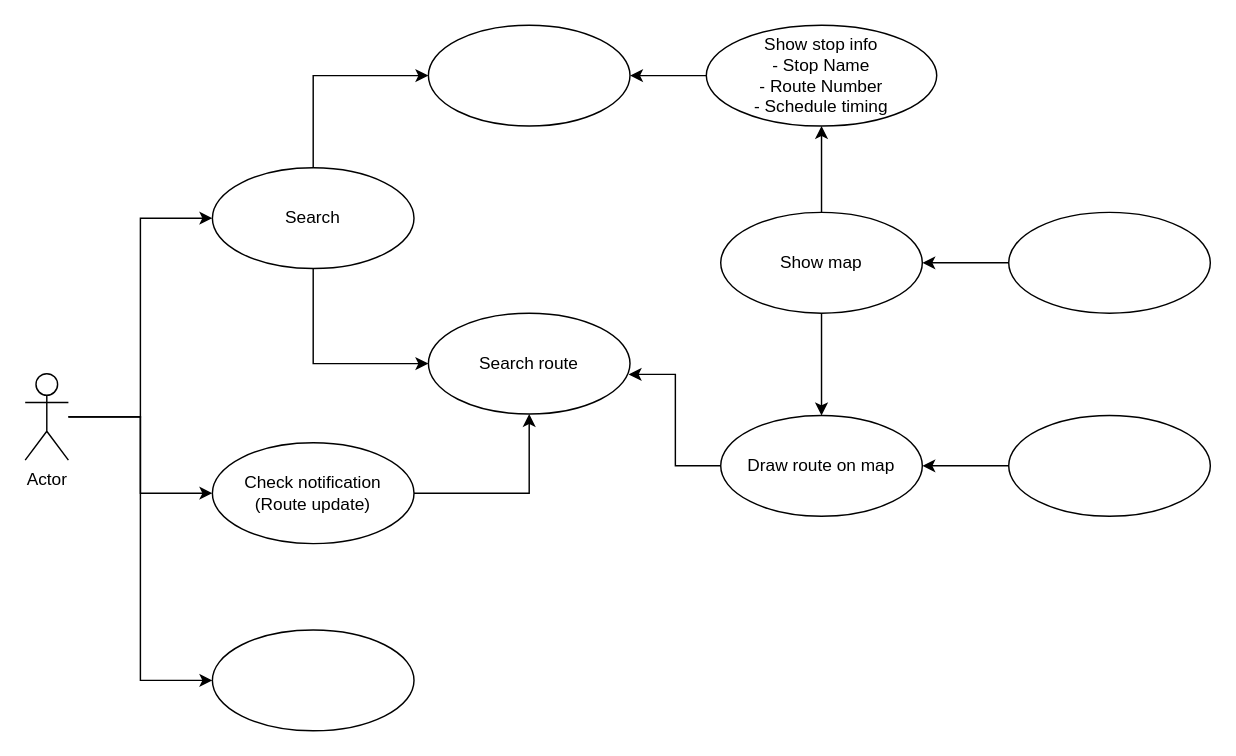
Image size: 1236x756. Some labels were removed from this diagram. The shapes that lost their labels are listed below. From the top down, each one's box as (x1, y1, x2, y2) in pixels, then its label:
(427, 24, 630, 126): Search bus stop
(1007, 211, 1210, 313): Current location
(1007, 414, 1210, 516): Update route info real time
(211, 629, 414, 731): Update latest bus schedule
